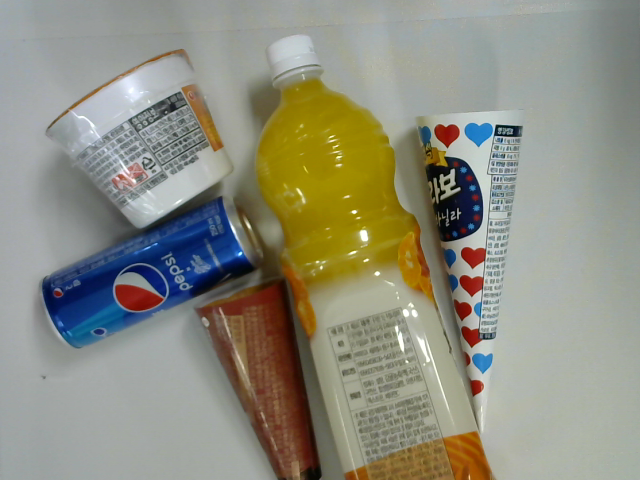Bravo_Cone_(Banila)_CVS: (411, 109, 530, 436)
Jeju_Tangerine_1.5L: (253, 33, 492, 480)
Pepsi_Cola_Can_250ml: (40, 196, 266, 350)
Udongmini: (38, 46, 235, 233)
World_Cone_Choco: (194, 279, 321, 480)
